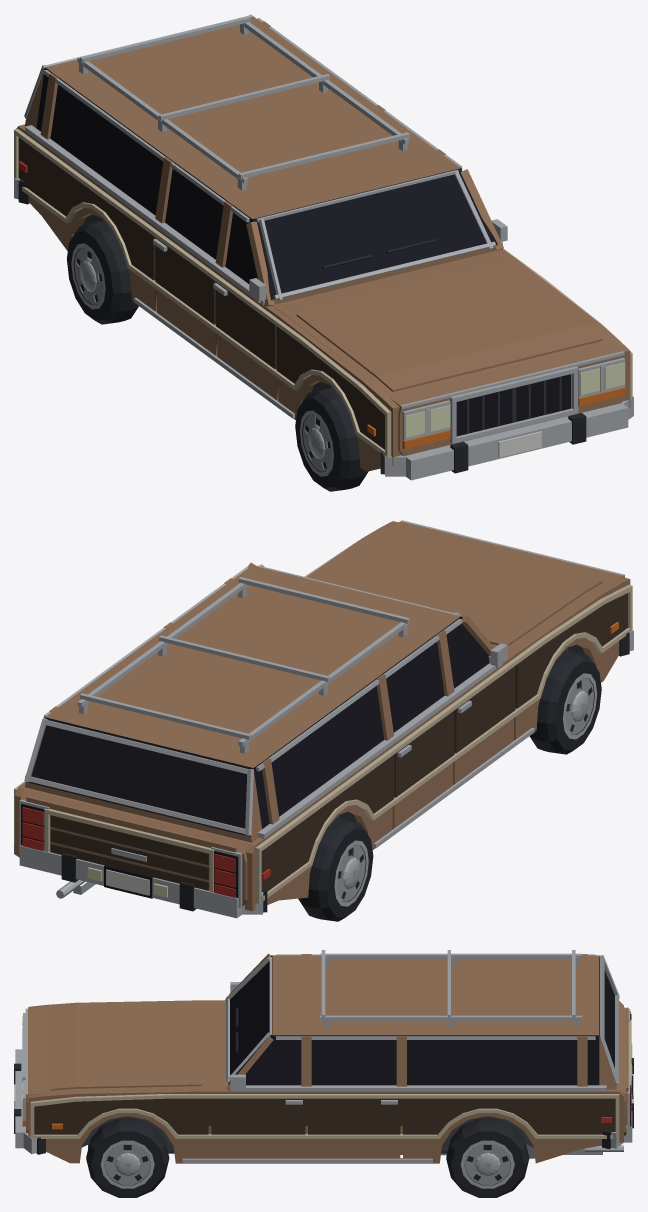
The model's file is car_wagon.glb.
3 views of the same model, one above another, from view 1: azimuth 30°, elevation 25°; view 2: azimuth 150°, elevation 25°; view 3: azimuth 270°, elevation 25° (orthographic). The views are drawn at different scales.
Parts seen in each view (by area): view 1: station-wagon-70s, wheel-fl, wheel-rl; view 2: station-wagon-70s, wheel-rl, wheel-fl; view 3: station-wagon-70s, wheel-fr, wheel-rr.
Part boxes in pixels (left/top/right/bottom): station-wagon-70s: left=14, top=14, right=633, bottom=480; wheel-fl: left=295, top=388, right=368, bottom=491; wheel-rl: left=67, top=220, right=138, bottom=324; station-wagon-70s: left=14, top=520, right=633, bottom=918; wheel-rl: left=298, top=818, right=373, bottom=921; wheel-fl: left=529, top=650, right=601, bottom=754; station-wagon-70s: left=14, top=950, right=633, bottom=1163; wheel-fr: left=86, top=1118, right=169, bottom=1197; wheel-rr: left=446, top=1118, right=529, bottom=1197.
Size of the model in its own units: 2.01 by 1.52 by 5.08.
